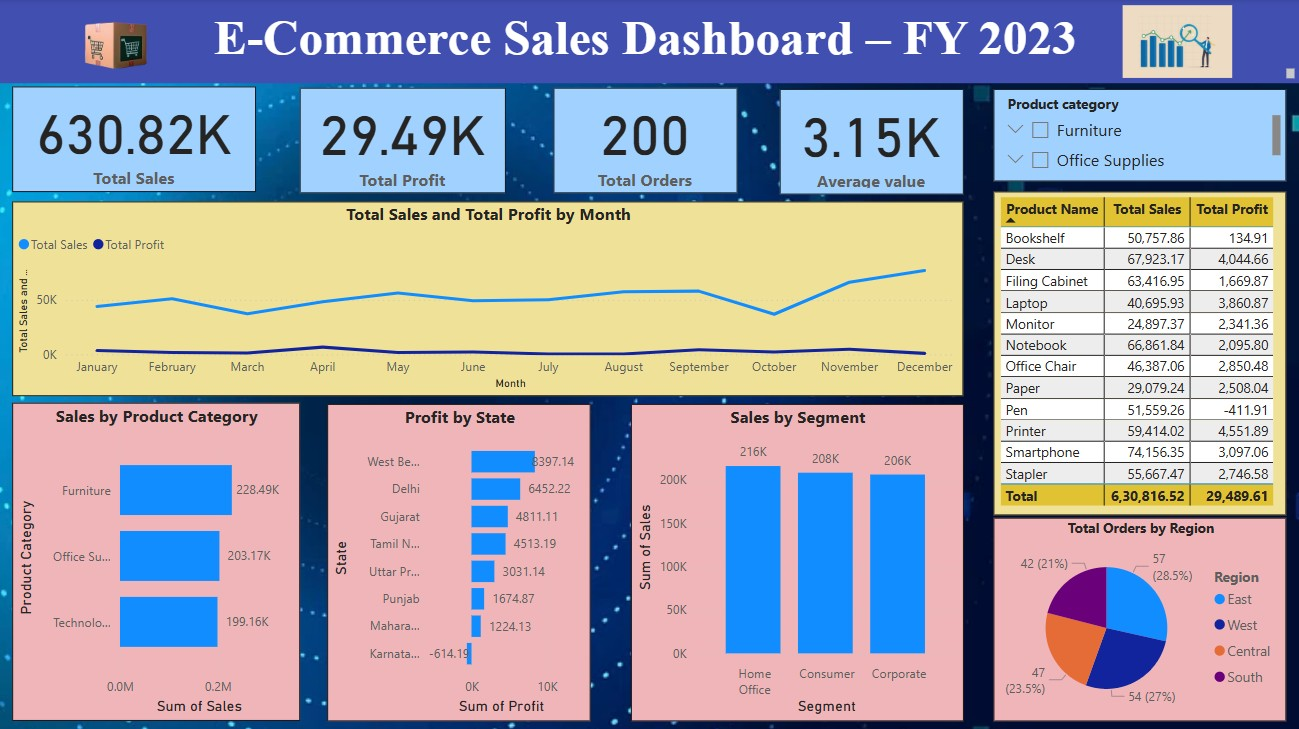

The page's visual inventory and layout, read from the dashboard file:
{"tool":"powerbi","page":{"name":"Page 1","canvas":[1280,720],"ordinal":0},"visuals":[{"type":"card","fields":{"Values":["ecommerce_sales_data.Total Sales"]},"box":[20.8,81.9,221.3,102.7],"z":0},{"type":"textbox","title":"E-Commerce Sales Dashboard – FY 2023","box":[0,0,1280.3,82.3],"z":1000},{"type":"card","fields":{"Values":["ecommerce_sales_data.Total Profit"]},"box":[302,81.9,201.8,102.7],"z":2000},{"type":"card","fields":{"Values":["ecommerce_sales_data.Total Orders"]},"box":[550.3,81.9,179.8,102.7],"z":3000},{"type":"card","fields":{"Values":["ecommerce_sales_data.Average value"]},"box":[769.2,81.9,181,102.7],"z":4000},{"type":"slicer","fields":{"Values":["ecommerce_sales_data.Product Category","ecommerce_sales_data.Region","ecommerce_sales_data.Segment","ecommerce_sales_data.Order Date"]},"box":[1007.2,82.3,260.7,90.6],"z":5000},{"type":"lineChart","fields":{"Category":["ecommerce_sales_data.Order Date.Variation.Date Hierarchy.Month"],"Y":["ecommerce_sales_data.Total Sales","ecommerce_sales_data.Total Profit"]},"box":[20.6,197.6,930.4,190.7],"z":6000},{"type":"clusteredBarChart","title":"Sales by Product Category","fields":{"Y":["Sum(ecommerce_sales_data.Sales)"],"Category":["ecommerce_sales_data.Product Category"]},"box":[20.6,395.2,281.3,311.5],"z":7000},{"type":"clusteredBarChart","title":"Profit by State","fields":{"Y":["Sum(ecommerce_sales_data.Profit)"],"Category":["ecommerce_sales_data.State"]},"box":[329.3,396.6,258,310.1],"z":8000},{"type":"pieChart","fields":{"Y":["ecommerce_sales_data.Total Orders"],"Category":["ecommerce_sales_data.Region"]},"box":[1007.2,507.7,260.7,199],"z":9000},{"type":"columnChart","title":"Sales by Segment","fields":{"Y":["Sum(ecommerce_sales_data.Sales)"],"Category":["ecommerce_sales_data.Segment"]},"box":[625.7,396.6,325.2,310.1],"z":10000},{"type":"tableEx","fields":{"Values":["ecommerce_sales_data.Product Name","ecommerce_sales_data.Total Sales","ecommerce_sales_data.Total Profit"]},"box":[1007.2,172.9,260.7,323.8],"z":10001},{"type":"image","box":[1040.1,1.4,240.1,81],"z":10002},{"type":"image","box":[0,0,247,85.1],"z":10004}]}

Visuals, with their boxes in screenshot pixels (x1, y1, x2, y2), scaled from the page's 1280x720 canvas onto the 1299x729 screenshot:
card - ecommerce_sales_data.Total Sales: [21,83,246,187]
"E-Commerce Sales Dashboard – FY 2023" textbox: [0,0,1298,83]
card - ecommerce_sales_data.Total Profit: [306,83,511,187]
card - ecommerce_sales_data.Total Orders: [558,83,741,187]
card - ecommerce_sales_data.Average value: [781,83,964,187]
slicer - ecommerce_sales_data.Product Category x ecommerce_sales_data.Region: [1022,83,1287,175]
lineChart - ecommerce_sales_data.Order Date.Variation.Date Hierarchy.Month x ecommerce_sales_data.Total Sales: [21,200,965,393]
"Sales by Product Category" clusteredBarChart: [21,400,306,716]
"Profit by State" clusteredBarChart: [334,402,596,716]
pieChart - ecommerce_sales_data.Total Orders x ecommerce_sales_data.Region: [1022,514,1287,716]
"Sales by Segment" columnChart: [635,402,965,716]
tableEx - ecommerce_sales_data.Product Name x ecommerce_sales_data.Total Sales: [1022,175,1287,503]
image: [1056,1,1298,83]
image: [0,0,251,86]
